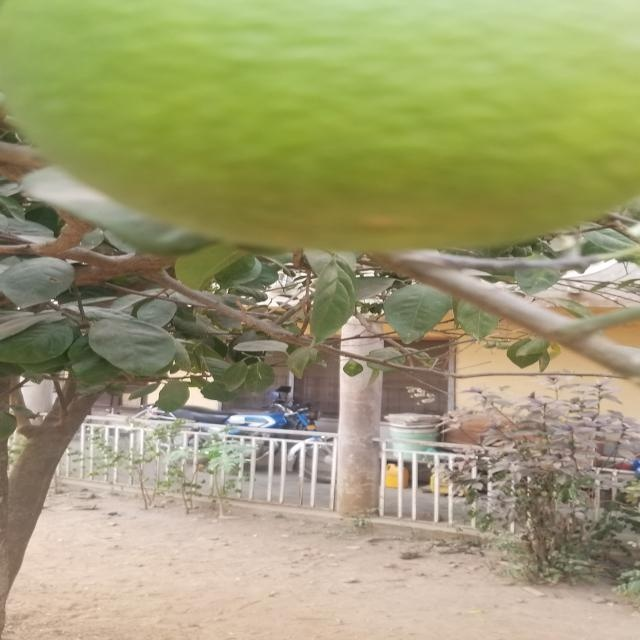agrume: (0, 0, 640, 259)
